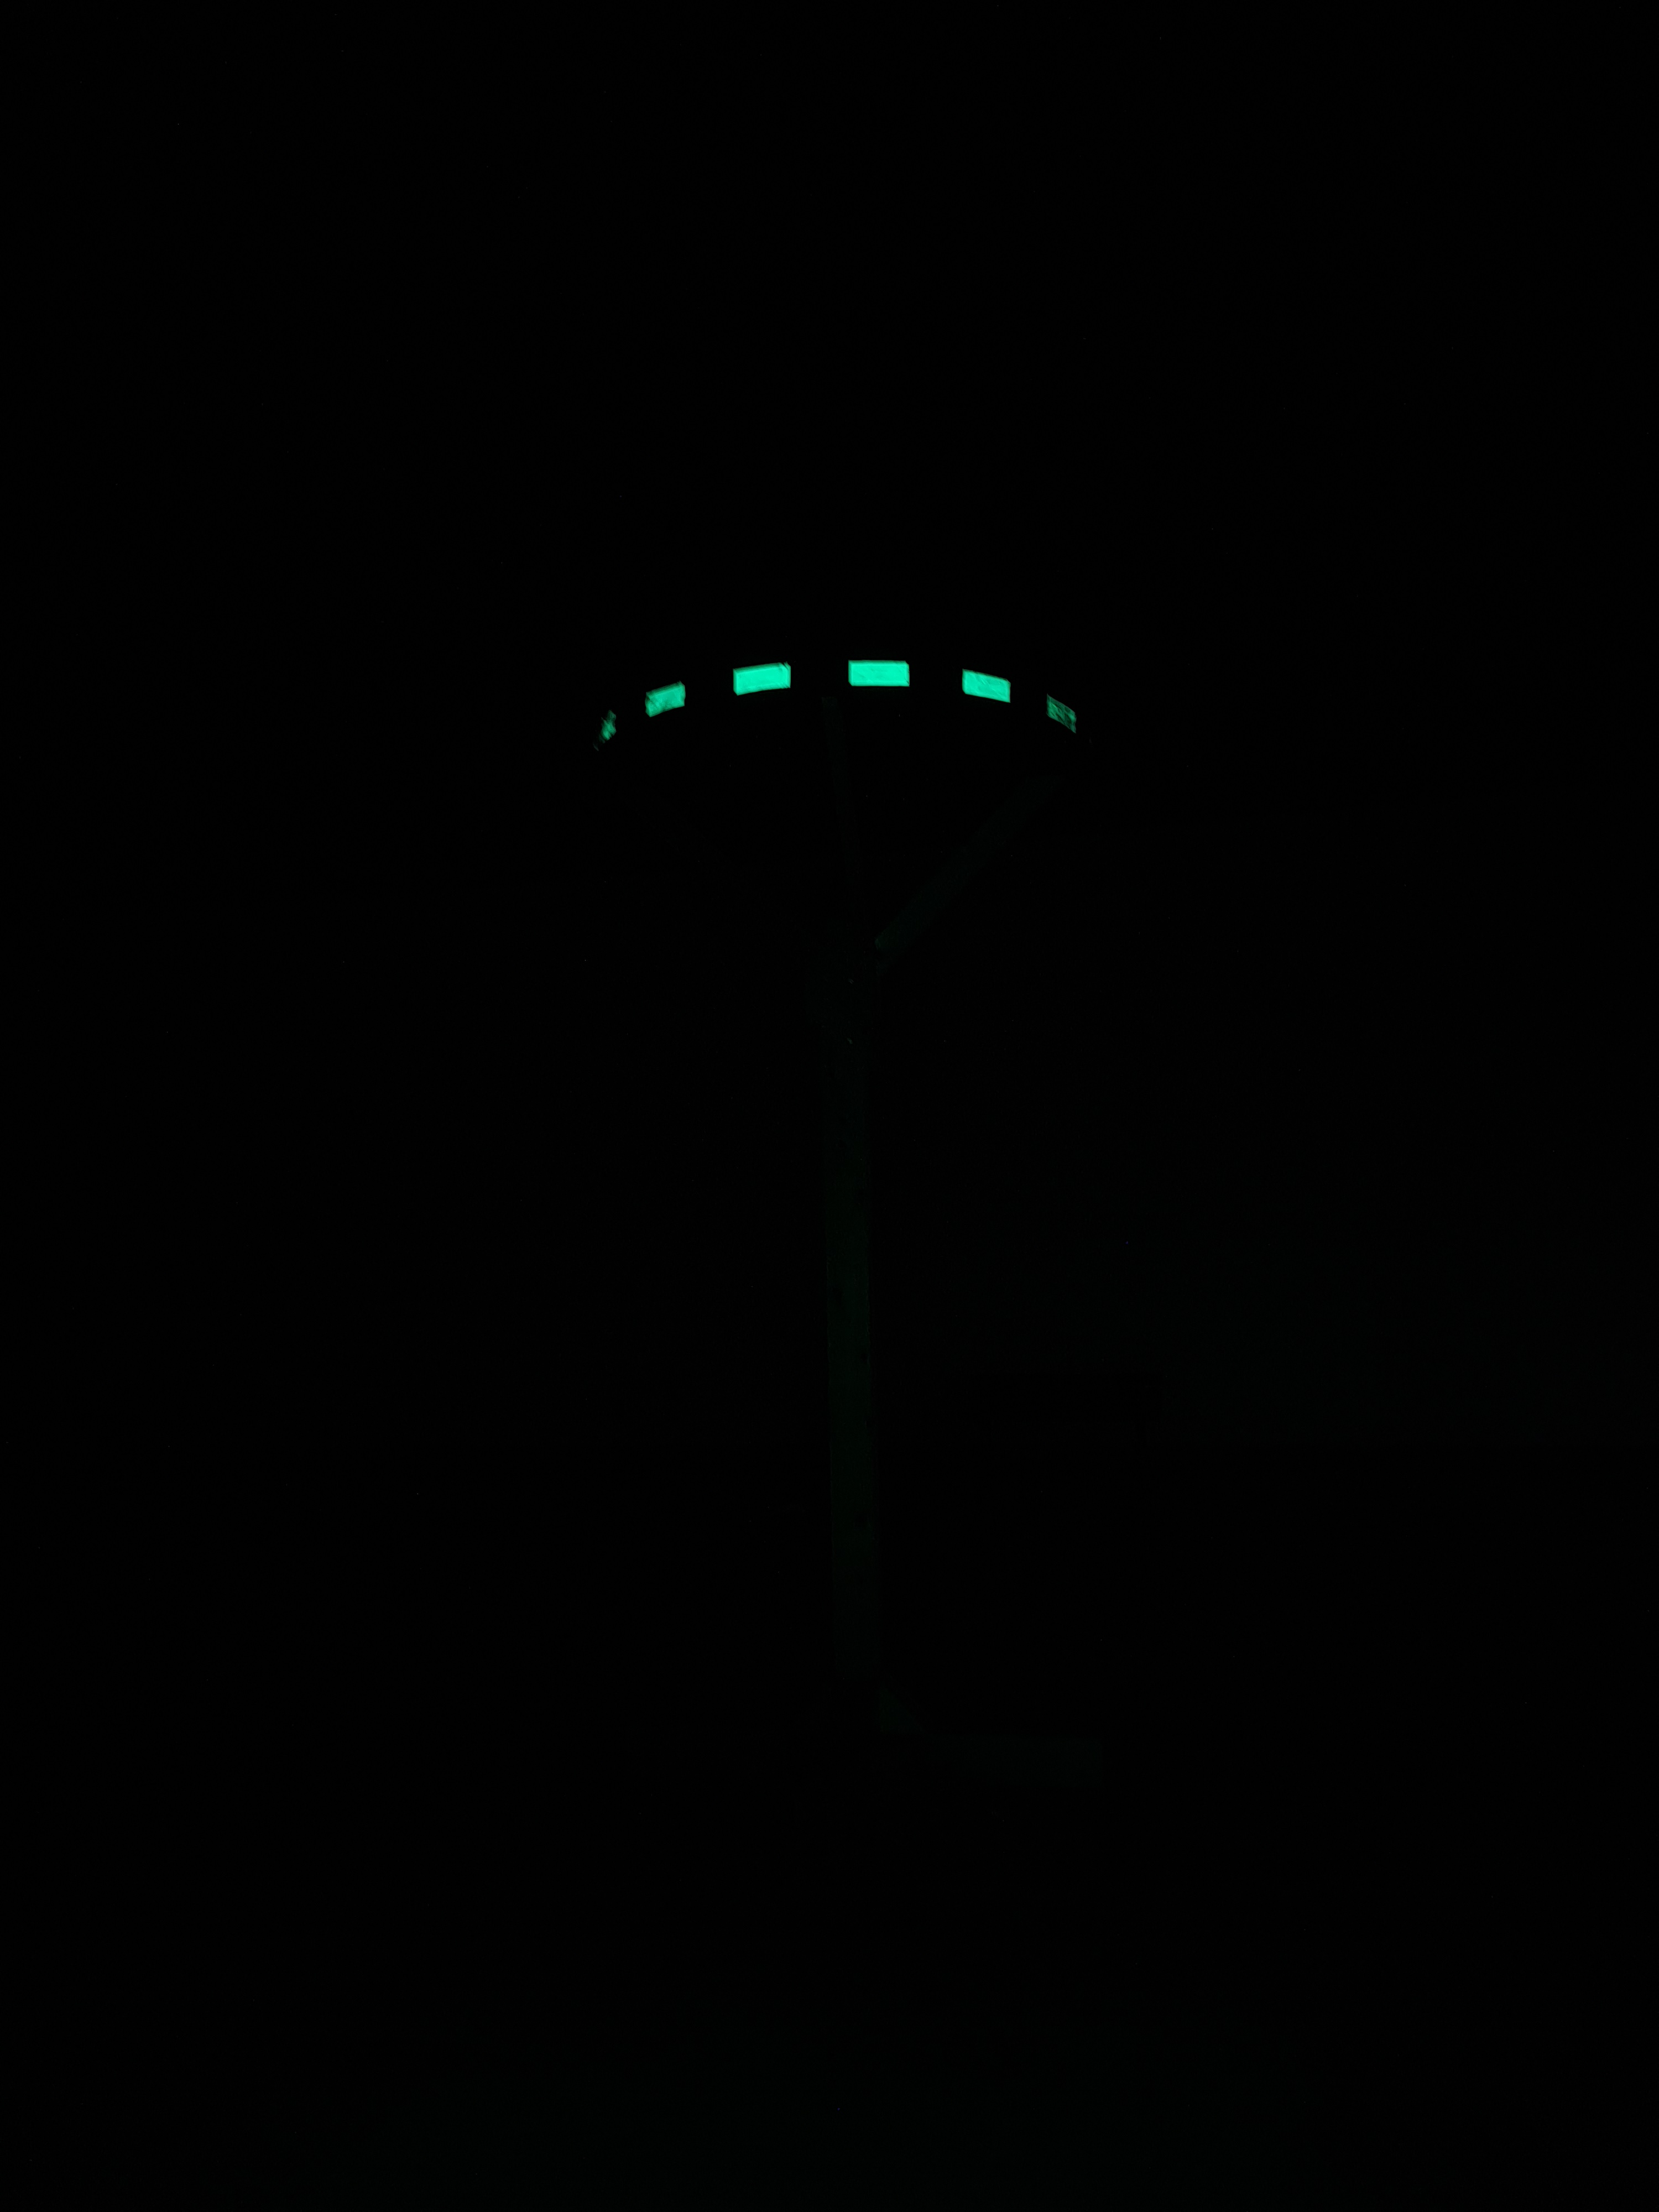hoop: (584, 643, 1084, 765)
